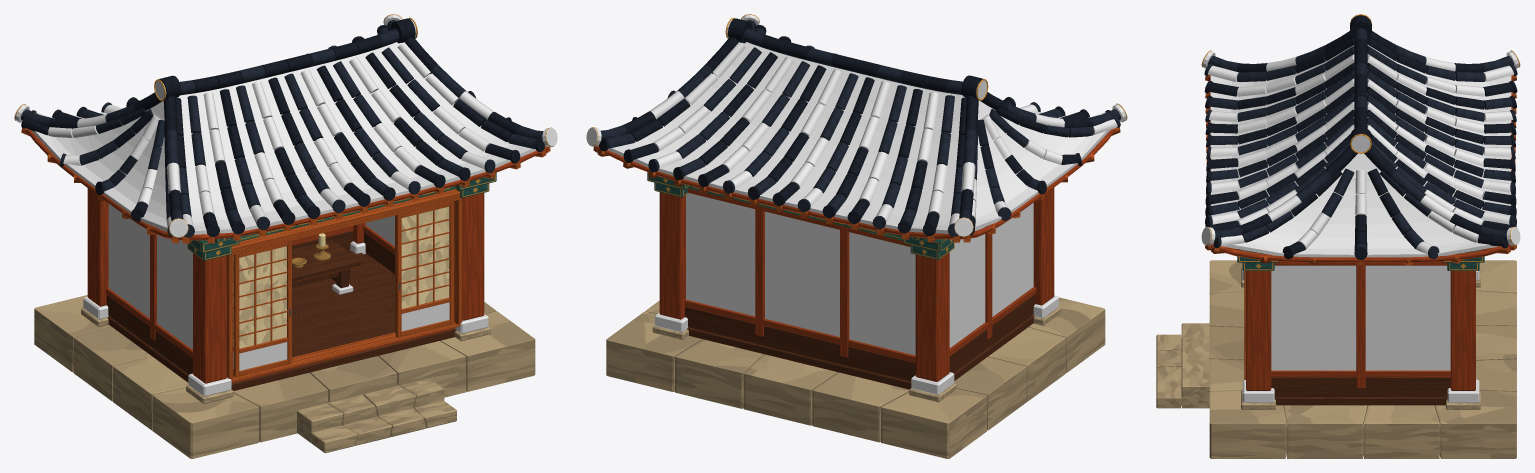
The model's file is BuildingBase_Parts.fbx.
3 renders of one model, left to right at view 1: azimuth 30°, elevation 25°; view 2: azimuth 150°, elevation 25°; view 3: azimuth 270°, elevation 25°, orthographic. The views are drawn at different scales.
Parts seen in each view (by area): view 1: Roof, Foundation, Pillars, Walls, Floor, Doors_Right, Doors_Left, Stairs, DoorFrame, Altar, Beams; view 2: Roof, Walls, Foundation, Pillars, Floor, Beams; view 3: Roof, Foundation, Walls, Pillars, Stairs, Floor, Beams.
Boxes of the visible parts, box(x1,y1,x2,y2) form: Roof: box(14, 14, 557, 243); Foundation: box(34, 295, 535, 458); Pillars: box(81, 183, 490, 403); Walls: box(106, 203, 394, 374); Floor: box(107, 251, 456, 390); Doors_Right: box(395, 201, 454, 337); Doors_Left: box(233, 241, 291, 377); Stairs: box(297, 378, 456, 453); DoorFrame: box(227, 189, 462, 381); Altar: box(292, 239, 360, 294); Beams: box(188, 172, 496, 259); Roof: box(586, 14, 1127, 242); Walls: box(684, 188, 1036, 381); Foundation: box(606, 297, 1105, 458); Pillars: box(652, 182, 1061, 402); Floor: box(687, 315, 1034, 389); Beams: box(647, 172, 954, 258); Roof: box(1201, 14, 1520, 265); Foundation: box(1209, 260, 1516, 458); Walls: box(1271, 261, 1450, 396); Pillars: box(1241, 262, 1480, 409); Stairs: box(1156, 323, 1209, 408); Floor: box(1274, 397, 1447, 405); Beams: box(1237, 250, 1484, 270).
Size of the model in its own units: 22.47 by 17.25 by 18.75.
